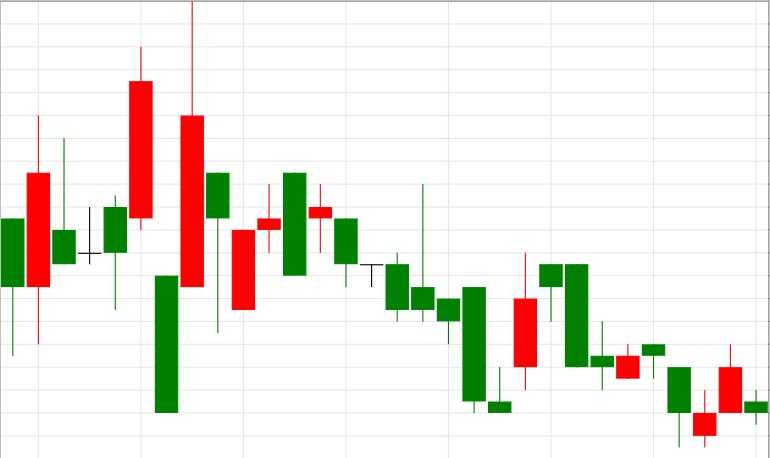morning_star_rise: (334, 182, 538, 412)
